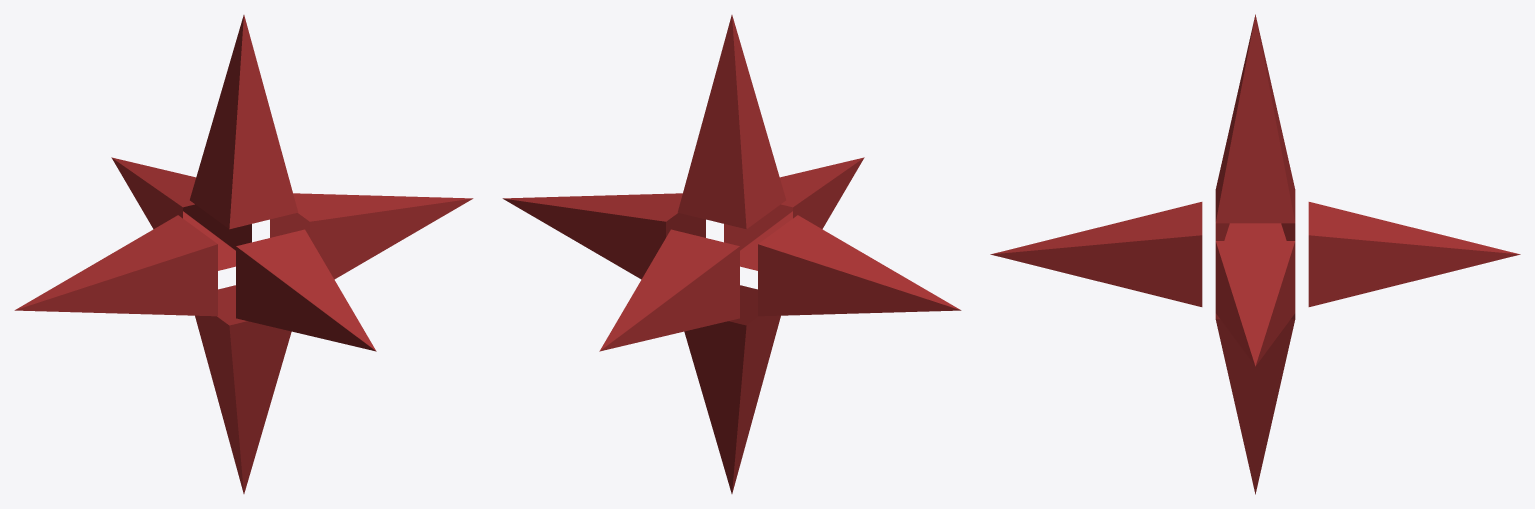
File: spikes.glb
3 views of the same model, side by side, from view 1: azimuth 30°, elevation 25°; view 2: azimuth 150°, elevation 25°; view 3: azimuth 270°, elevation 25° (orthographic).
Parts seen in each view (by area): view 1: Cube.001; view 2: Cube.001; view 3: Cube.001.
Boxes of the visible parts, x1,y1,x2,y2 form: Cube.001: [14, 15, 473, 493]; Cube.001: [502, 15, 961, 493]; Cube.001: [990, 14, 1520, 494].
Bounding box in the file's own units: 10 × 10 × 10.
